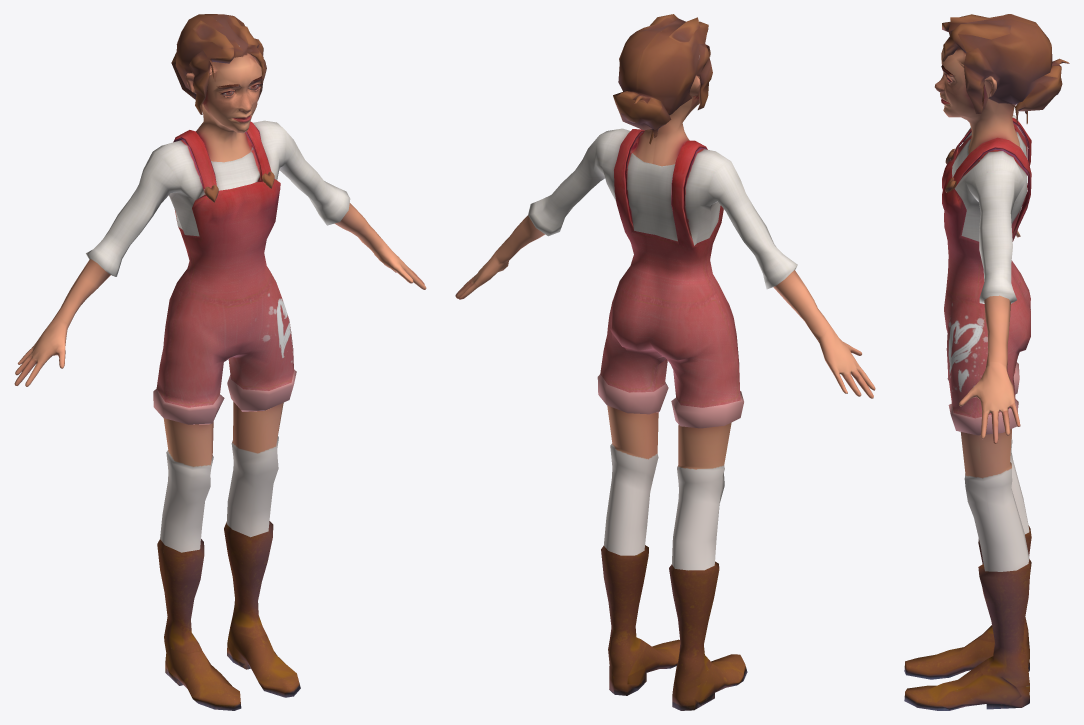
Rendered from female_character_simple.glb.
The picture shows the model from 3 angles, left to right: view 1: azimuth 30°, elevation 25°; view 2: azimuth 150°, elevation 25°; view 3: azimuth 270°, elevation 25°; orthographic projection. The views are drawn at different scales.
Visible parts, largest first — view 1: Character_Low; view 2: Character_Low; view 3: Character_Low.
Boxes of the visible parts, x1,y1,x2,y2 form: Character_Low: [14, 14, 426, 710]; Character_Low: [455, 14, 875, 710]; Character_Low: [904, 14, 1069, 710].
Bounding box in the file's own units: 1.32 × 2 × 0.4484.
1 material, 1 textured.
